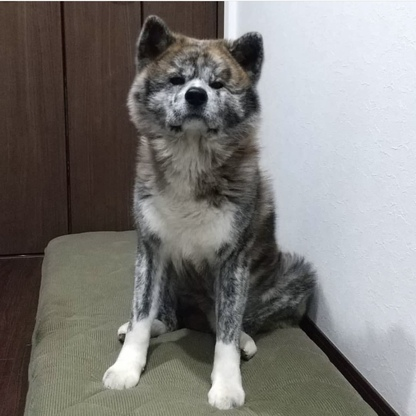akita: (96, 10, 322, 415)
